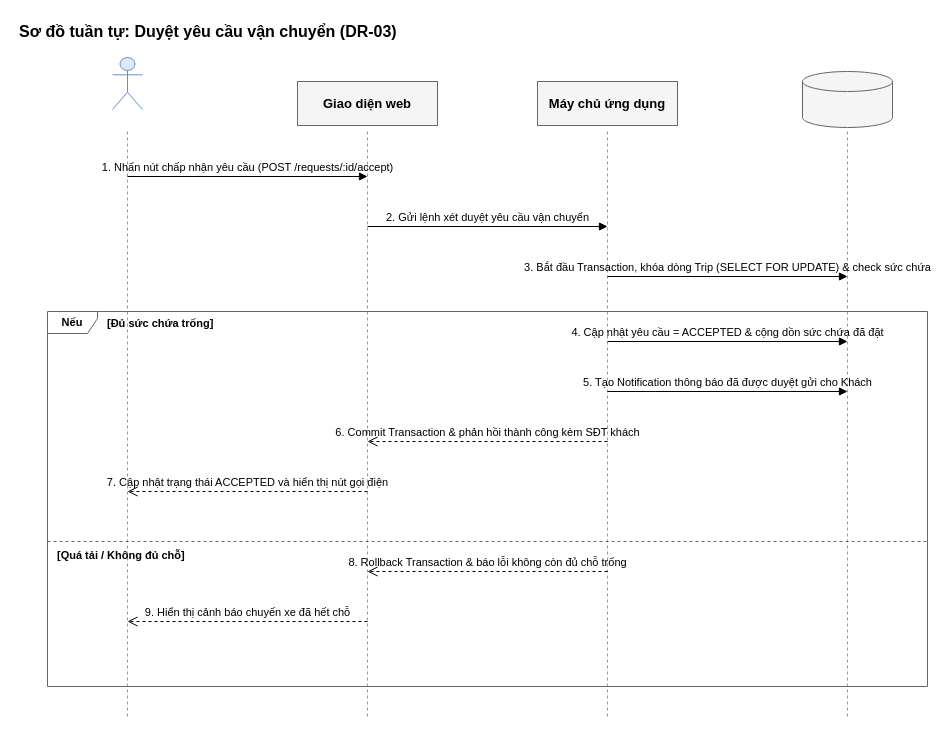
This 948x735 diagram has some shape labels left out. Each missing label, with the centre of its shape:
"PostgreSQL" goes at pixel 847 99.
"Tài xế (DRIVER)" goes at pixel 127 83.
